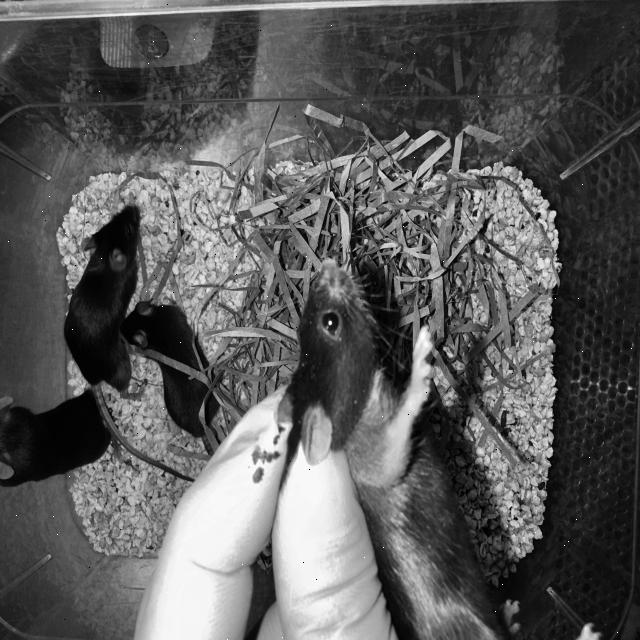Face: (278, 260, 438, 465)
